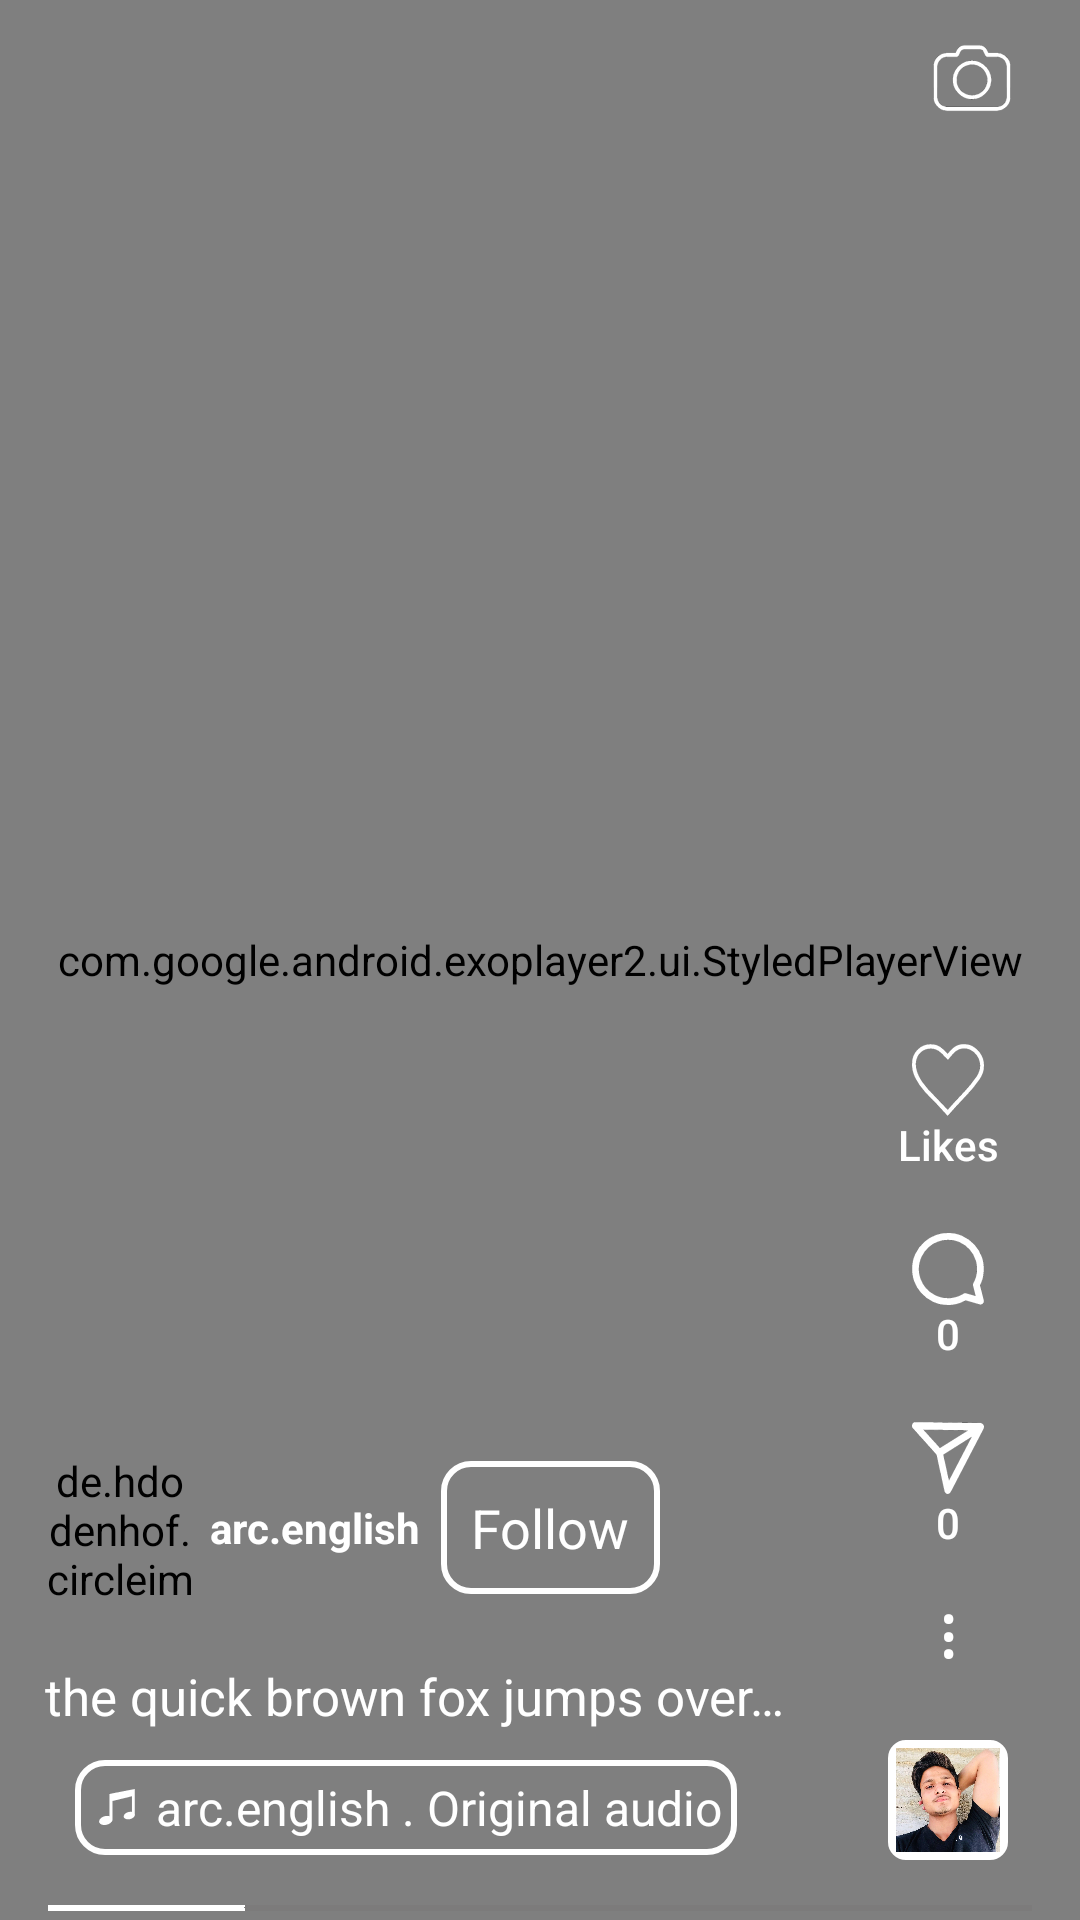

Screen size 1080w x 1920h. Icon name, then its center in pixels as point (x, y):
camera: point (972, 78)
music: point (117, 1807)
